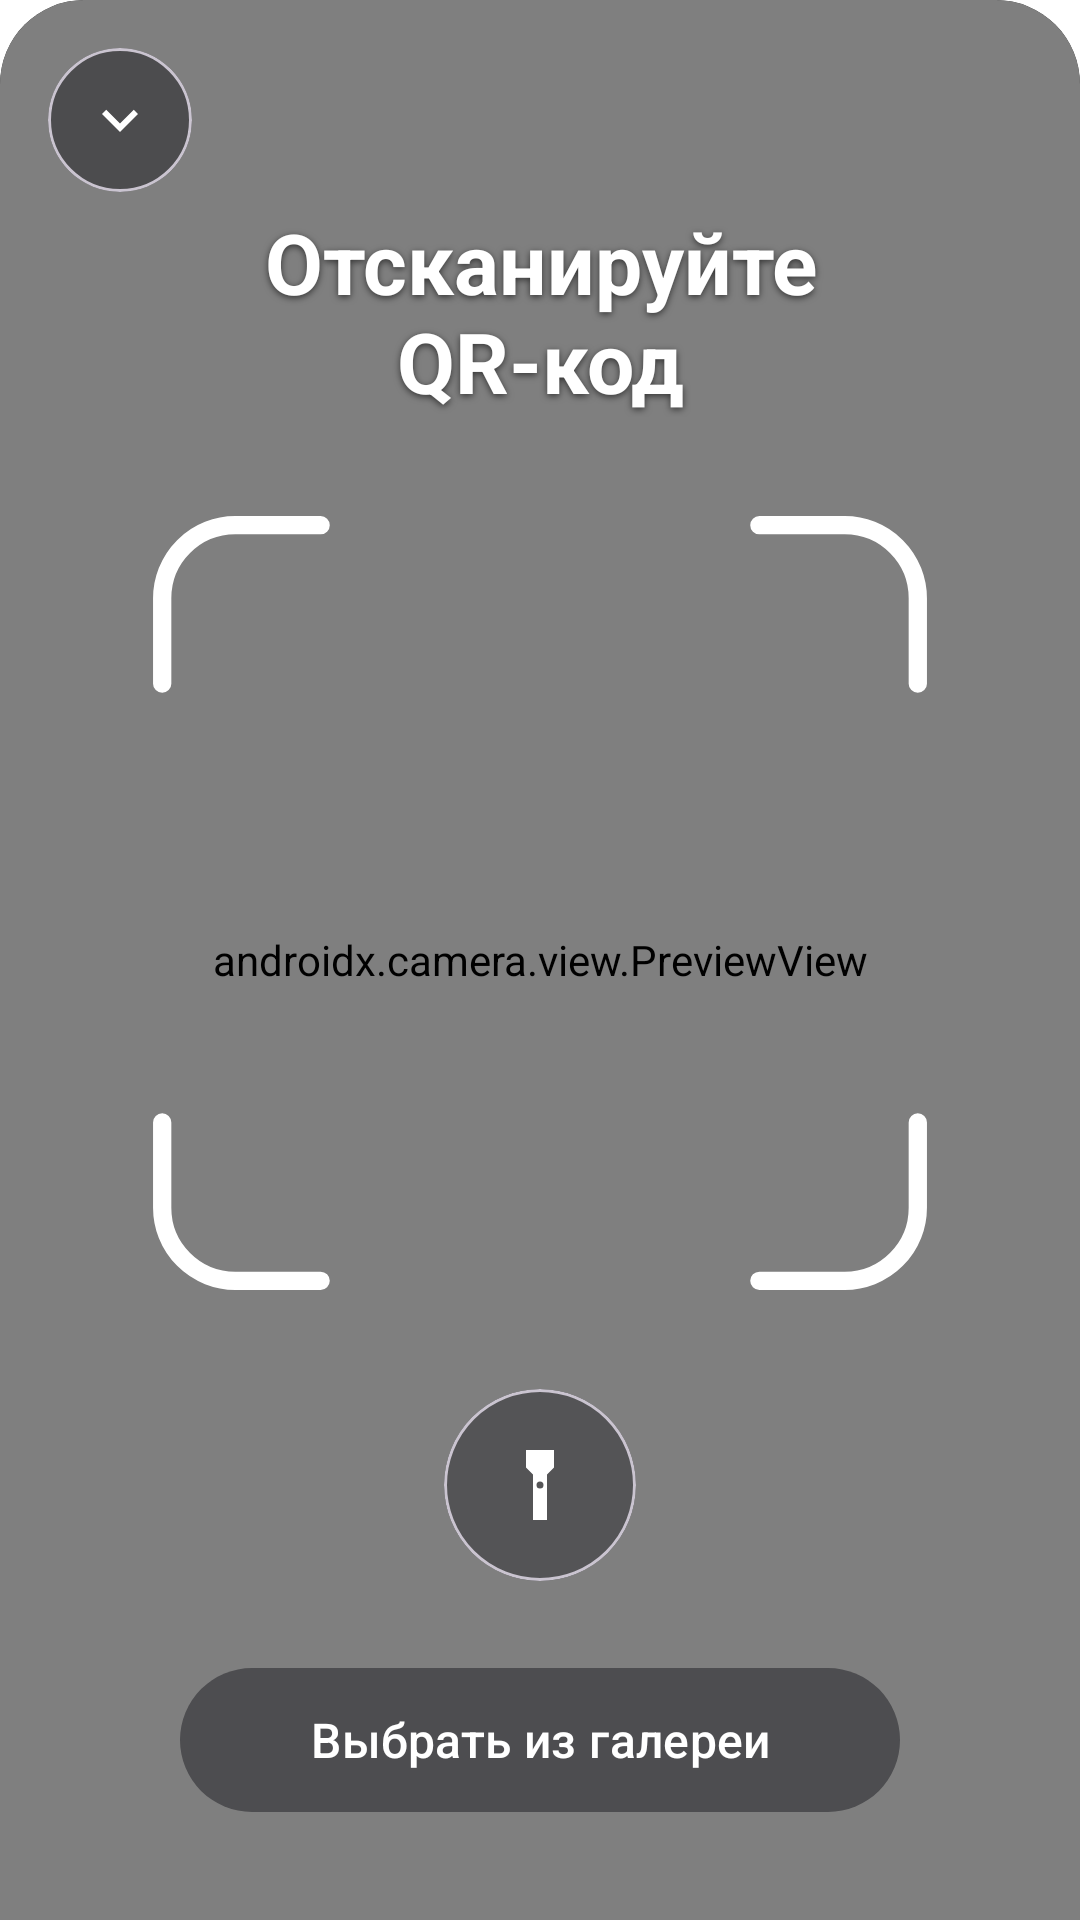

Icons on this 1080 × 1920 Android screen, each with its box as (x1, y1, x2, y2):
Закрыть: (102, 110, 138, 132)
Фонарик: (526, 1450, 554, 1520)
